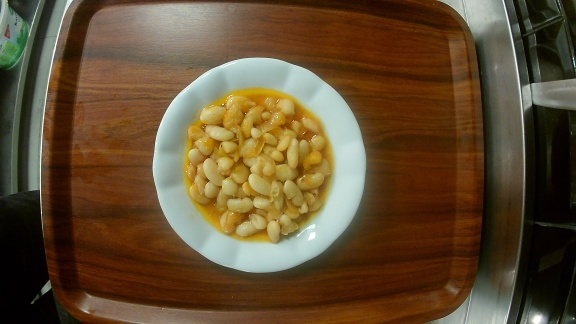kurufasulye: (151, 56, 368, 274)
